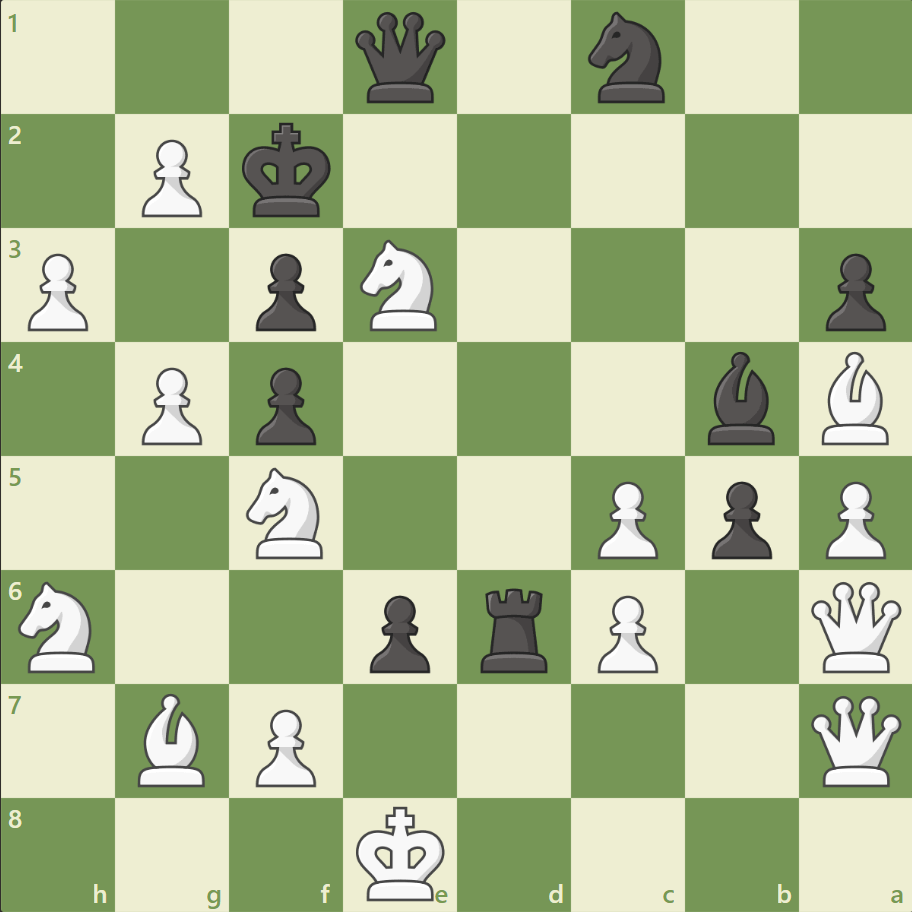B: (131, 687, 215, 790), (812, 347, 896, 449)
K: (351, 798, 451, 906)
N: (351, 234, 449, 337), (238, 461, 335, 564), (11, 575, 108, 677)
P: (247, 700, 322, 791), (133, 359, 208, 450), (20, 246, 95, 337), (133, 132, 208, 223), (588, 586, 662, 677), (815, 473, 889, 564), (588, 473, 662, 564)
Q: (805, 576, 904, 676), (805, 690, 904, 789)
b: (698, 347, 782, 449)
k: (238, 117, 338, 225)
n: (579, 7, 676, 110)
p: (701, 473, 776, 564), (247, 359, 322, 450), (247, 246, 322, 337), (361, 586, 435, 677), (815, 246, 889, 337)
q: (351, 9, 450, 108)
r: (473, 579, 556, 676)
